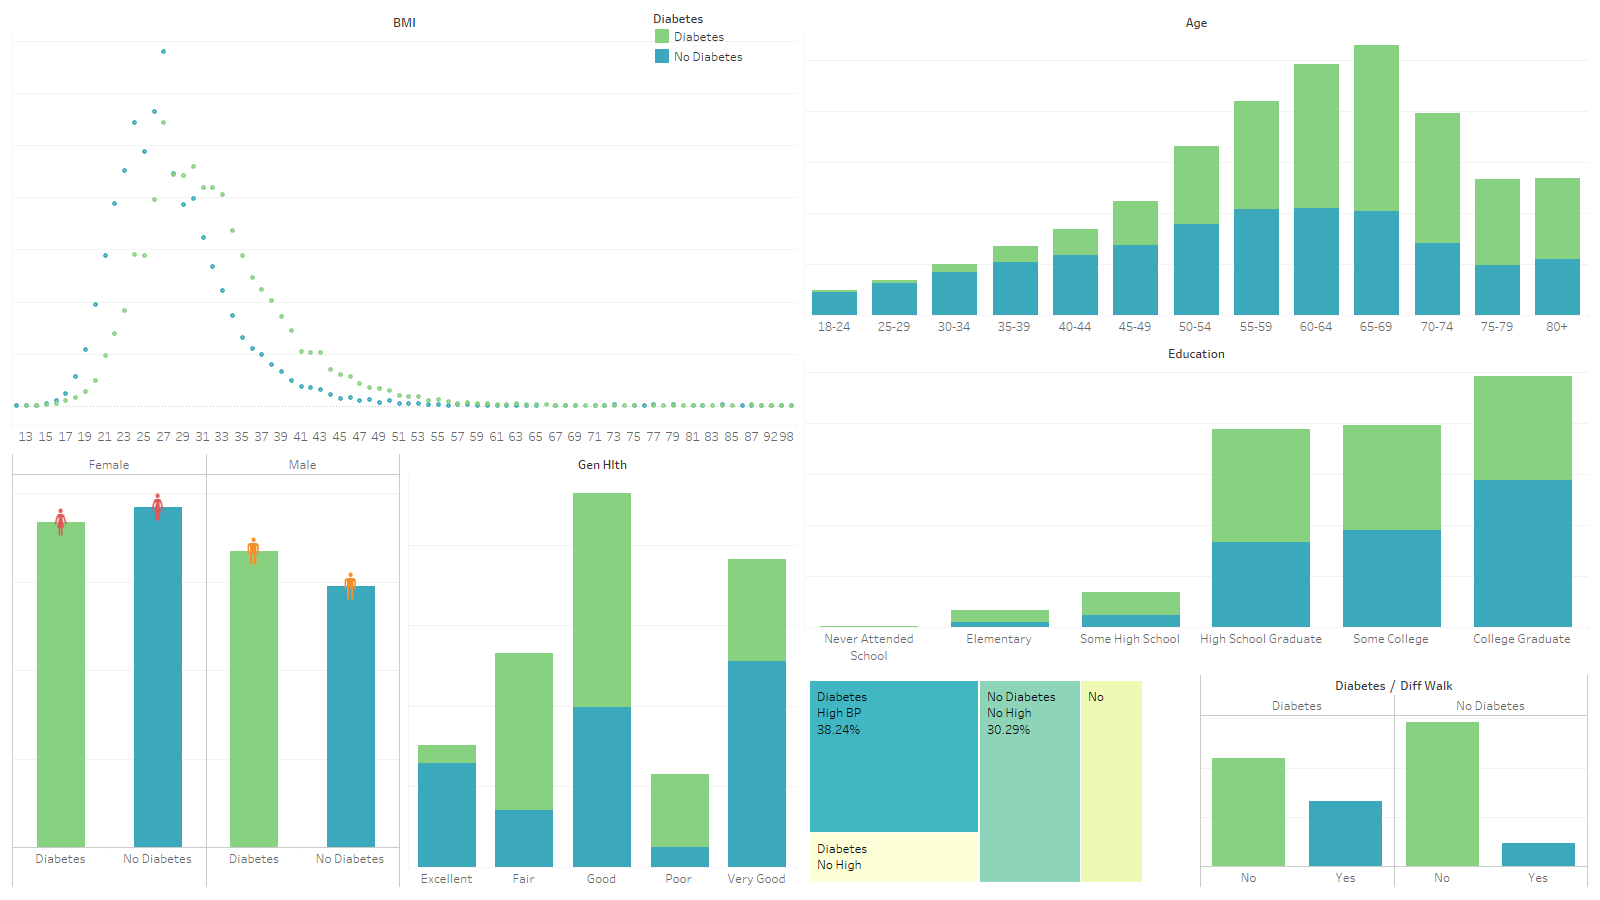

This screenshot's page, from the dashboard's own definition file:
{"tool":"tableau","page":{"name":"Diabetes Risk Factors","canvas":[1600,900],"ordinal":0},"visuals":[{"type":"worksheet","title":"by BMI","mark":"Shape","rows":["diabetes_viz.csv_3588A98D1B484D51823FEF209ED0B1EE"],"cols":["BMI"],"box":[8,8,792,442]},{"type":"legend","title":"by BMI","param":"[federated.1x78gc41dv3dbe1bazdbb1i1nrer].[none:Diabetes:nk]","box":[652,8,138,65]},{"type":"worksheet","title":"by Age","mark":"Automatic","rows":["diabetes_viz.csv_3588A98D1B484D51823FEF209ED0B1EE"],"cols":["Age"],"box":[800,8,792,331.5]},{"type":"worksheet","title":"Diabetes Distribution by Education Level","mark":"Automatic","rows":["diabetes_viz.csv_3588A98D1B484D51823FEF209ED0B1EE"],"cols":["Education"],"box":[800,339.5,792,331.5]},{"type":"worksheet","title":"by Gender","mark":"Automatic","rows":["diabetes_viz.csv_3588A98D1B484D51823FEF209ED0B1EE","diabetes_viz.csv_3588A98D1B484D51823FEF209ED0B1EE"],"cols":["Sex","Diabetes"],"box":[8,450,396,442]},{"type":"worksheet","title":"by Gen Health Score","mark":"Automatic","rows":["diabetes_viz.csv_3588A98D1B484D51823FEF209ED0B1EE"],"cols":["GenHlth"],"box":[404,450,396,442]},{"type":"worksheet","title":"by Blood Pressure Category","mark":"Automatic","box":[800,671,396,221]},{"type":"worksheet","title":"Difficulty Walking by Diabetes Category","mark":"Automatic","rows":["diabetes_viz.csv_3588A98D1B484D51823FEF209ED0B1EE"],"cols":["Diabetes","DiffWalk"],"box":[1196,671,396,221]}]}

Visuals, with their boxes in screenshot pixels (x1, y1, x2, y2), scaled from the page's 1600x900 canvas onto the 1600x900 screenshot:
"by BMI" worksheet (Shape marks): select_region(8, 8, 800, 450)
"by BMI" legend: select_region(652, 8, 790, 73)
"by Age" worksheet: select_region(800, 8, 1592, 340)
"Diabetes Distribution by Education Level" worksheet: select_region(800, 340, 1592, 671)
"by Gender" worksheet: select_region(8, 450, 404, 892)
"by Gen Health Score" worksheet: select_region(404, 450, 800, 892)
"by Blood Pressure Category" worksheet: select_region(800, 671, 1196, 892)
"Difficulty Walking by Diabetes Category" worksheet: select_region(1196, 671, 1592, 892)
